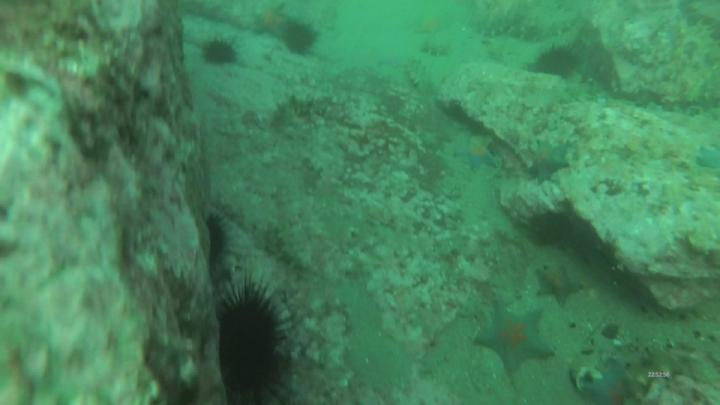echinus: (220, 297, 282, 389), (544, 49, 576, 77), (287, 24, 318, 52), (205, 41, 239, 63)
holothurian: (281, 94, 339, 120), (685, 27, 720, 61), (408, 60, 433, 95), (490, 39, 518, 68), (426, 33, 457, 58)
starfish: (478, 307, 551, 367), (587, 367, 635, 405), (540, 264, 583, 301), (465, 138, 501, 172), (536, 147, 572, 180)
